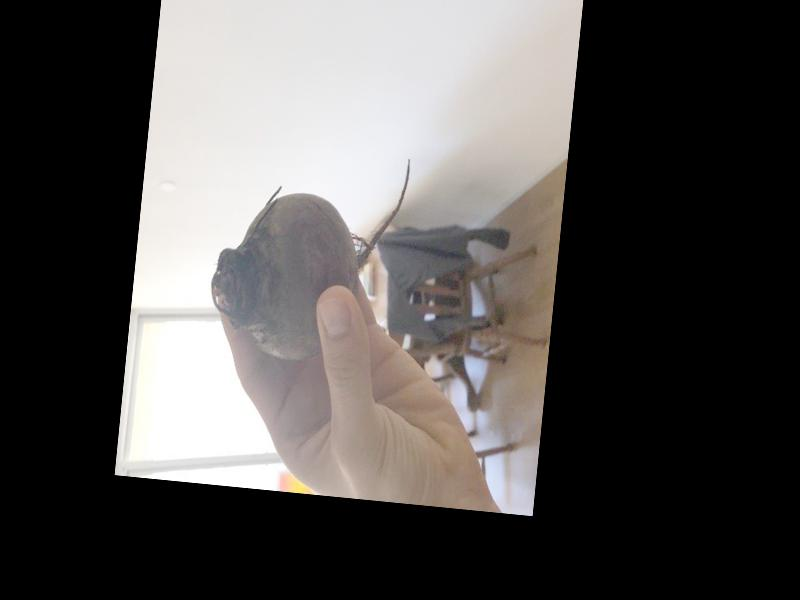Beet: (204, 141, 411, 369)
